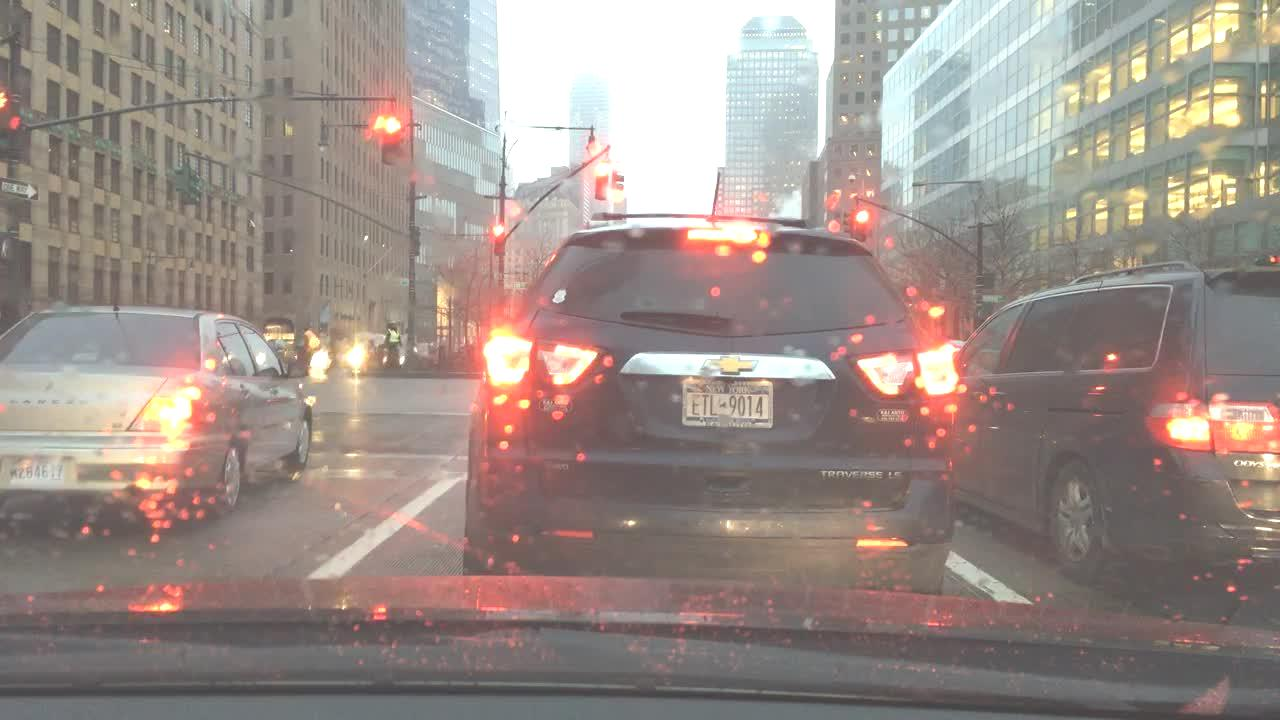chevrolet: (699, 351, 762, 383)
